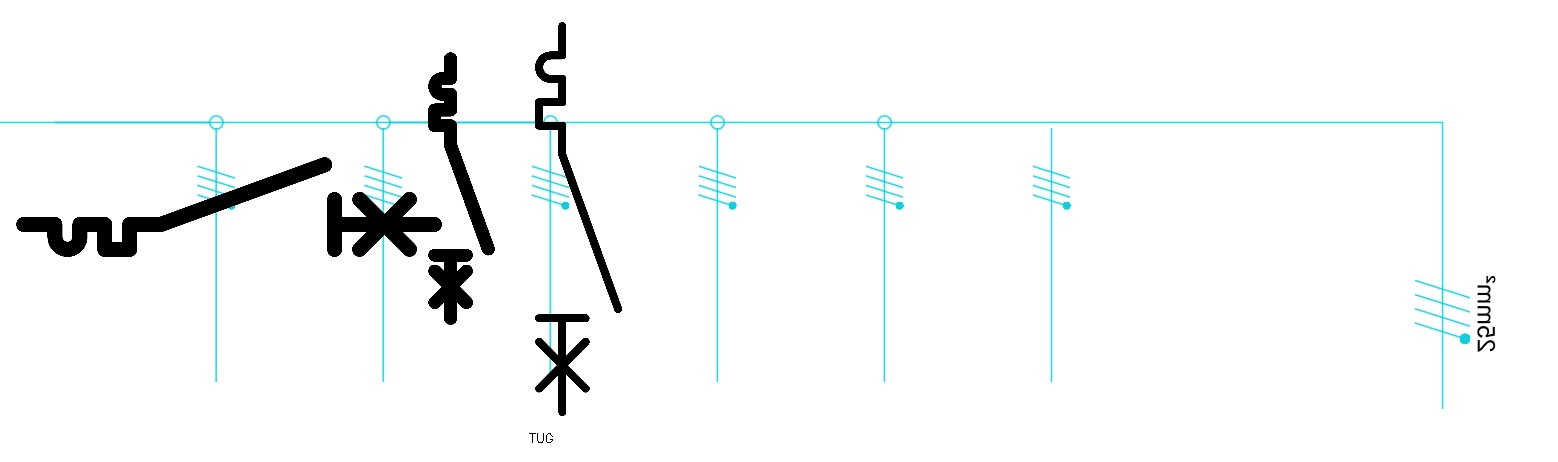interruptor_termomagnetico: (13, 154, 445, 260), (529, 16, 628, 422), (428, 52, 495, 325)
